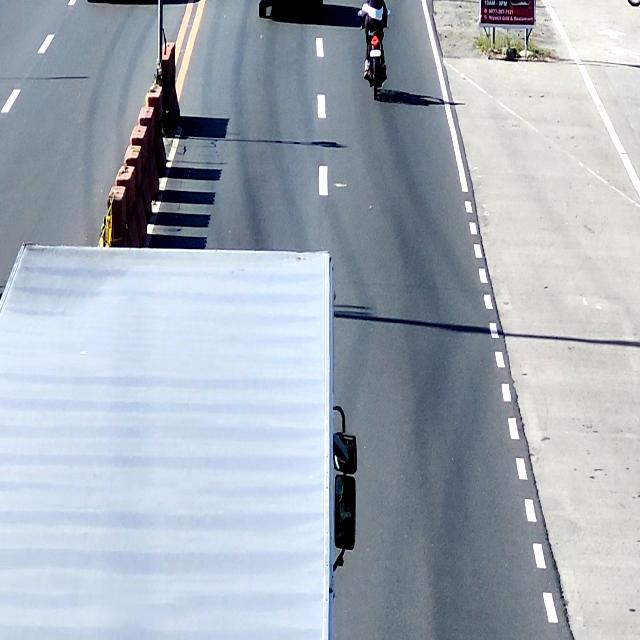Car: (259, 0, 324, 20)
License-Plate: (370, 49, 382, 59)
Motorcycle: (360, 6, 390, 102)
Truck: (1, 241, 355, 640)
